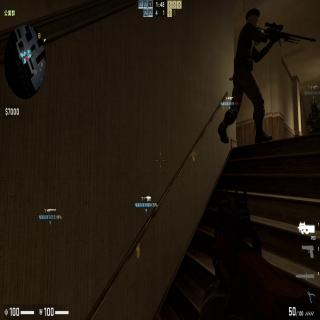CT-Head: (310, 100, 318, 113)
T-Body: (221, 1, 275, 143)
T-Head: (245, 7, 261, 35)
